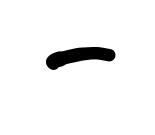minus: (45, 46, 113, 70)
